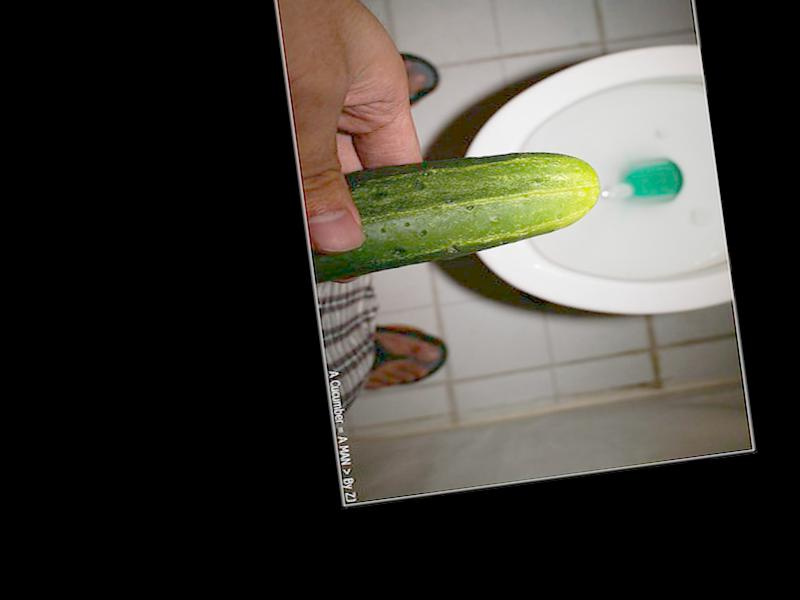Cucumber: (296, 140, 607, 283)
